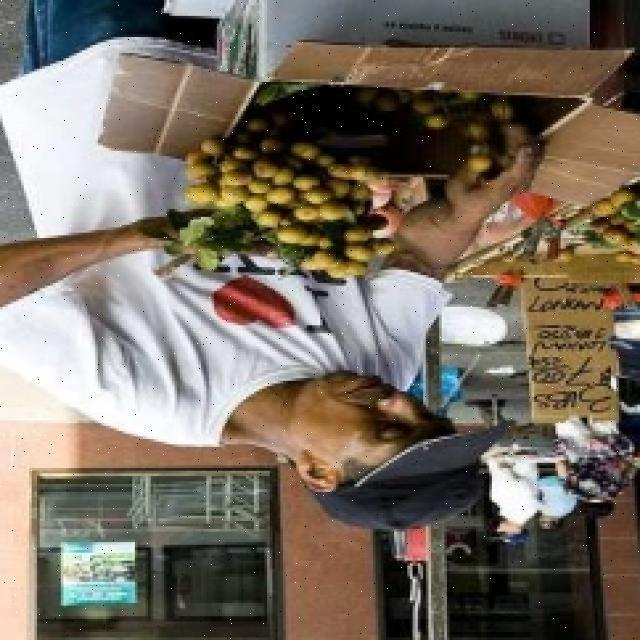box: (85, 0, 634, 220)
